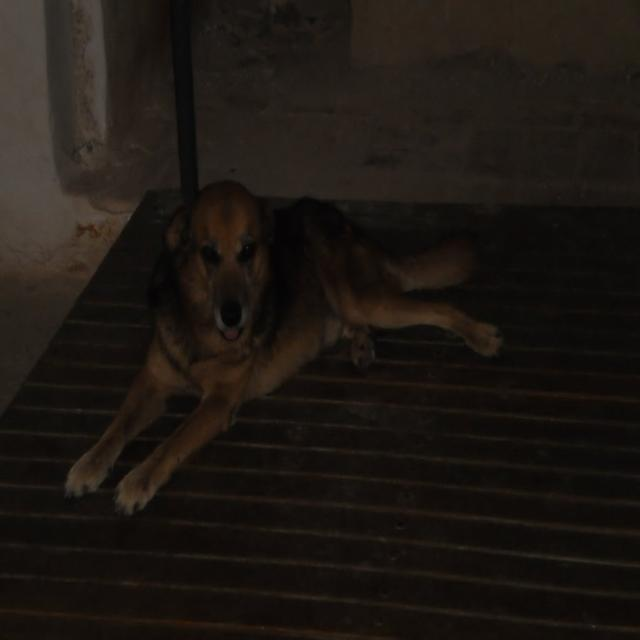Dog: (113, 154, 549, 498)
